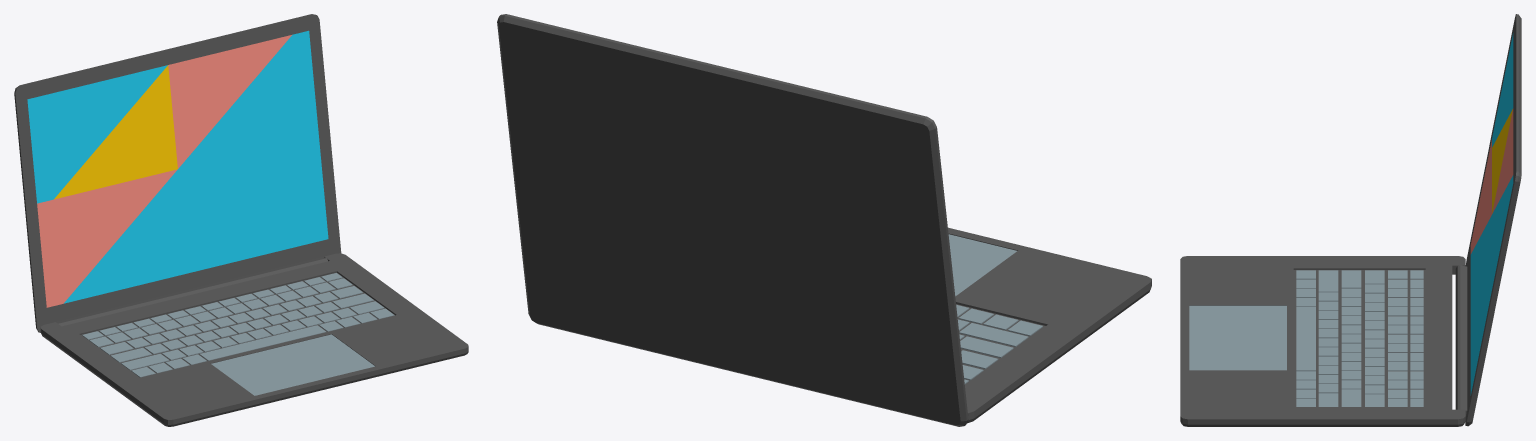
File: Laptop.glb
The picture shows the model from 3 angles, left to right: view 1: azimuth 30°, elevation 25°; view 2: azimuth 150°, elevation 25°; view 3: azimuth 270°, elevation 25°; orthographic projection. The views are drawn at different scales.
Visible parts, largest first — view 1: node-0; view 2: node-0; view 3: node-0.
Part boxes in pixels (x1=…): node-0: x1=14, y1=14, x2=468, y2=426; node-0: x1=497, y1=14, x2=1151, y2=426; node-0: x1=1180, y1=14, x2=1521, y2=426.
Size of the model in its own units: 13.56 by 9.86 by 11.97.
